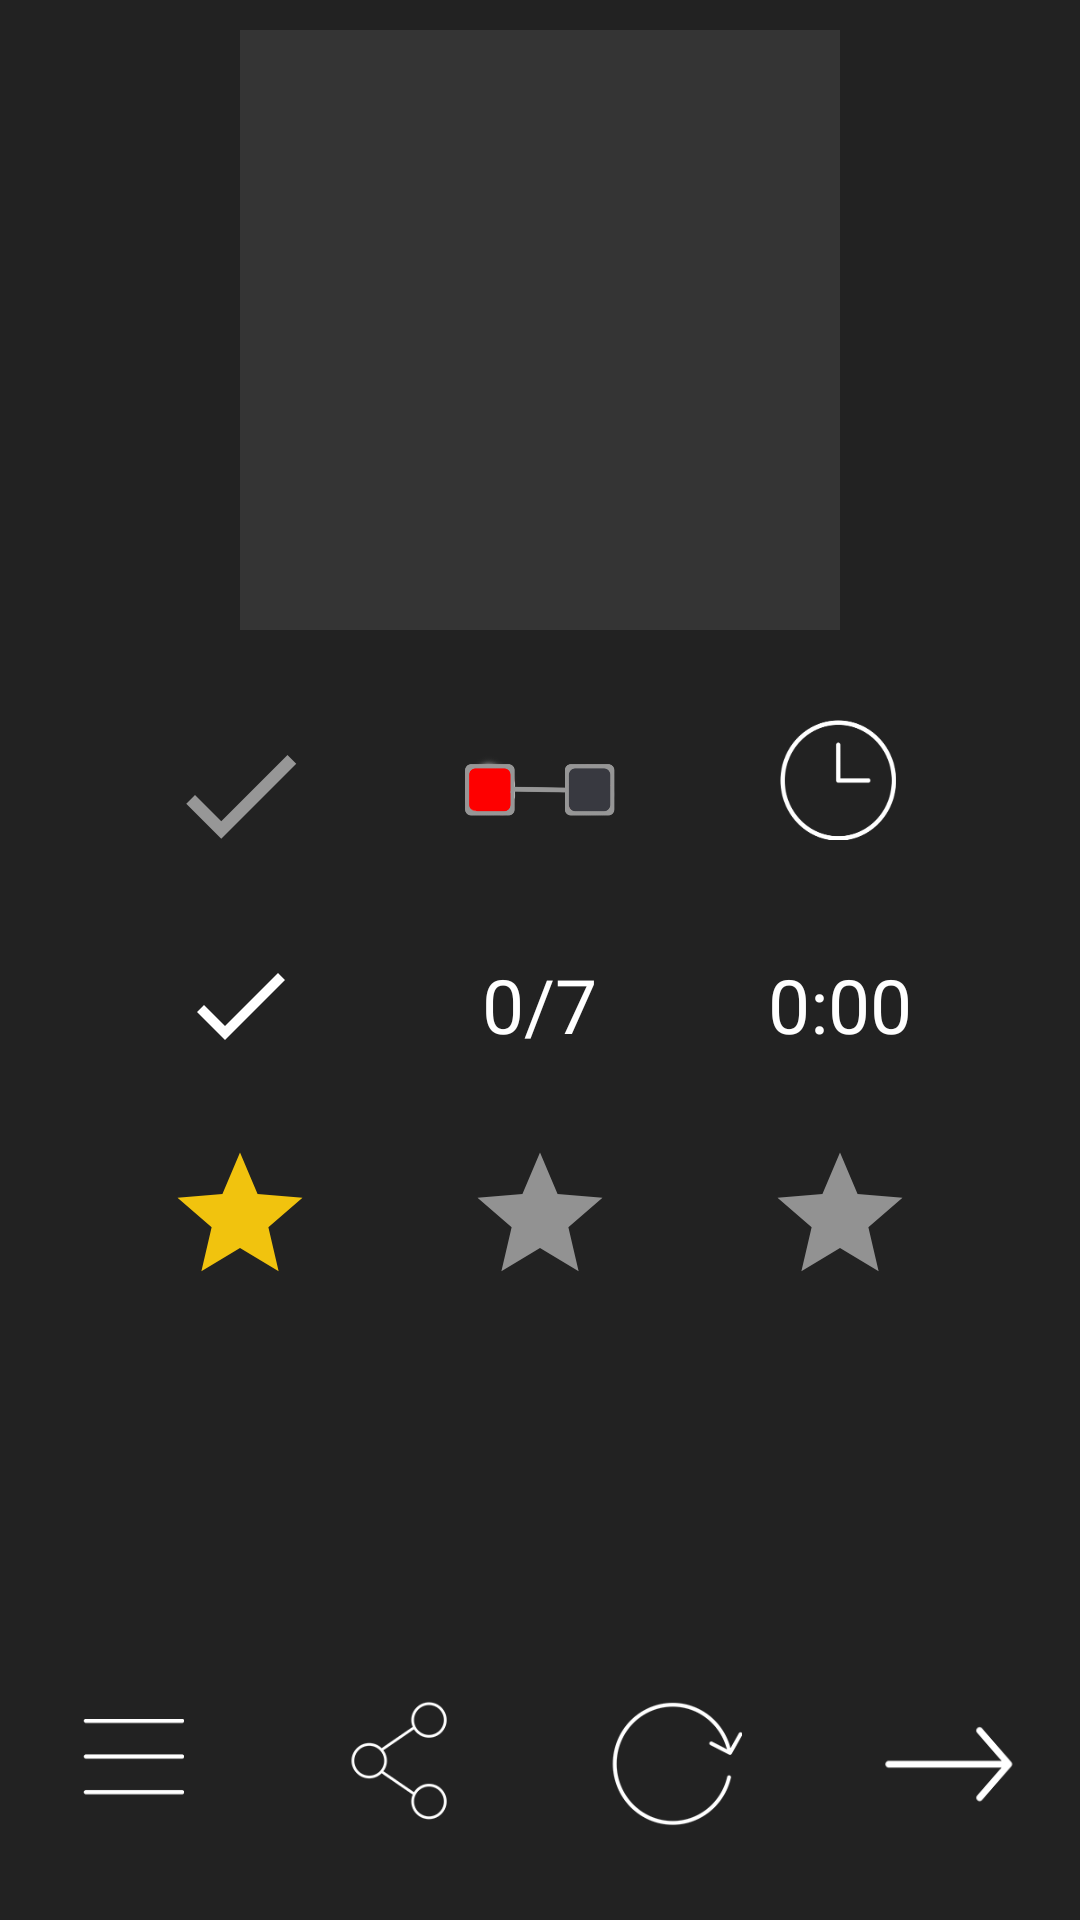

Where icons sit on this 1080w x 1920h app screen, as (x1, y1, x2, y2):
done: (186, 755, 296, 839), (197, 973, 285, 1040)
menu: (83, 1719, 184, 1795)
next: (885, 1727, 1013, 1802)
refresh: (612, 1702, 742, 1825)
share: (351, 1702, 447, 1820)
star: (178, 1153, 302, 1271), (478, 1153, 602, 1271), (778, 1153, 902, 1271)
step: (465, 761, 615, 816)
time: (780, 720, 896, 840)
